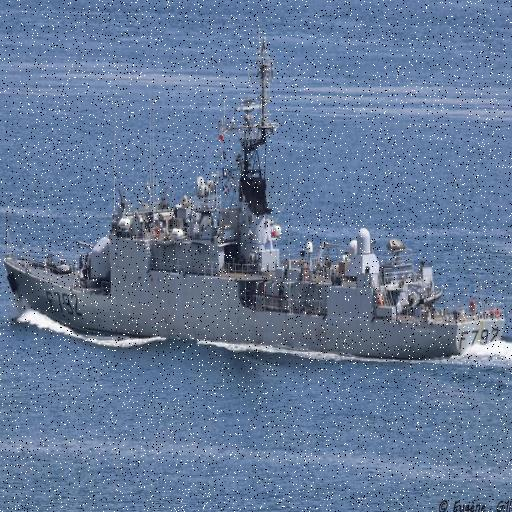Fragata: (2, 42, 509, 368)
